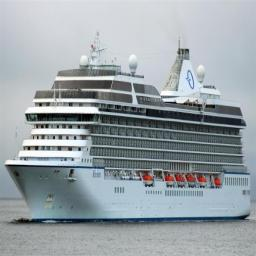cruises: (6, 28, 255, 225)
